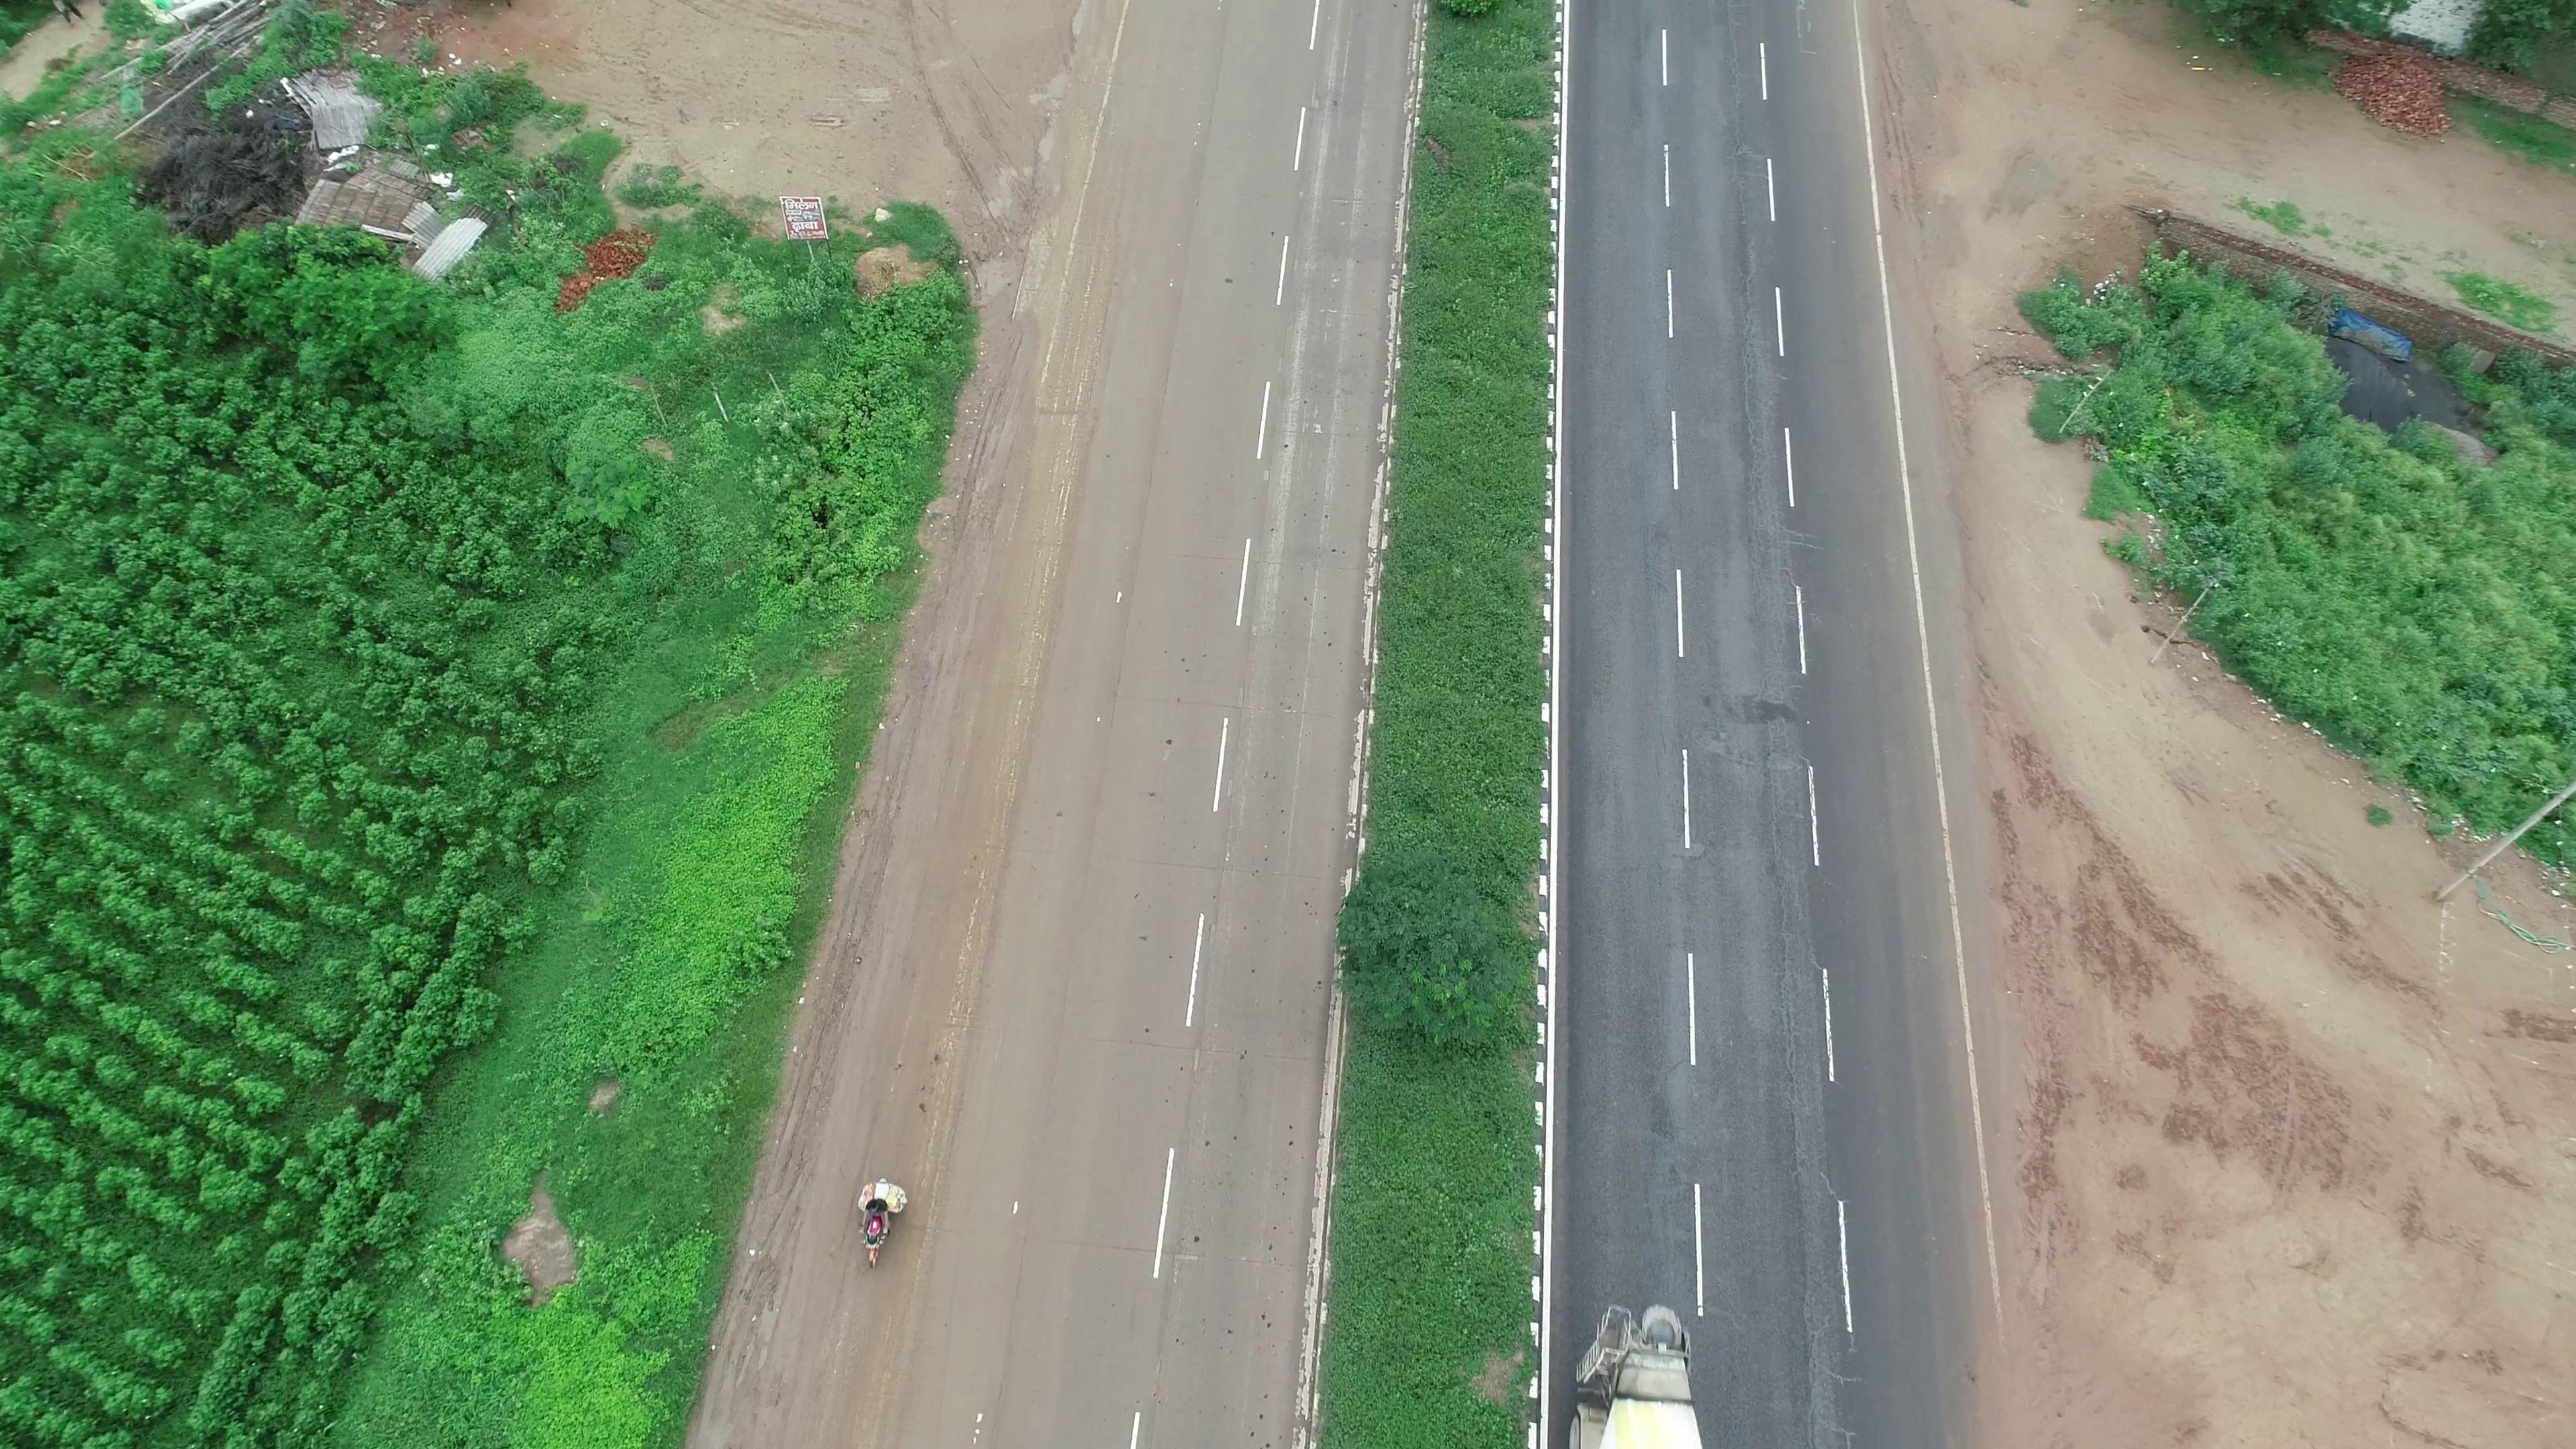Ravelling: (1729, 331, 1792, 626)
